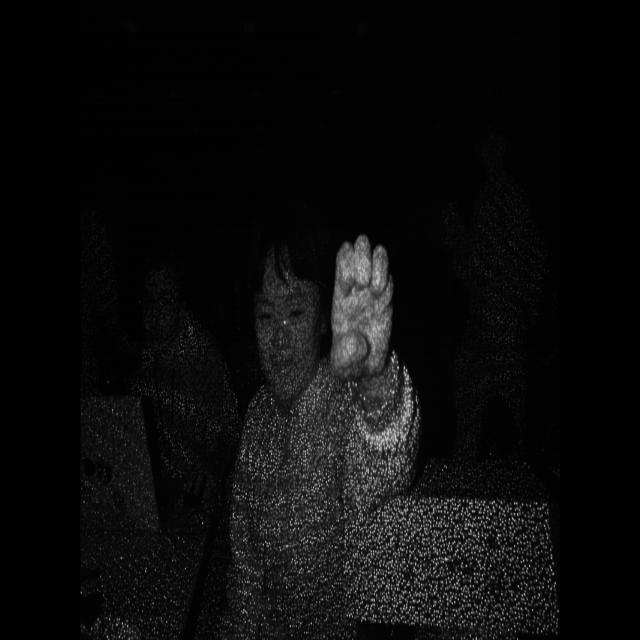E: (322, 215, 424, 404)
